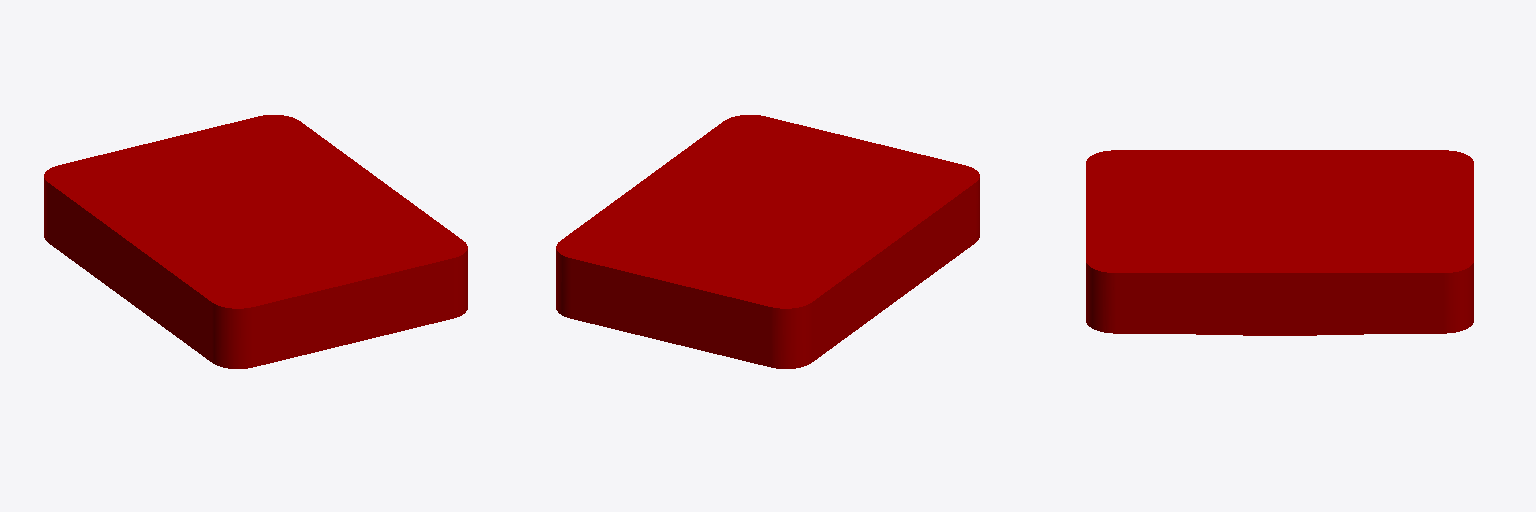
File: extruded_elastomer_transformed.obj
The picture shows the model from 3 angles: view 1: azimuth 30°, elevation 25°; view 2: azimuth 150°, elevation 25°; view 3: azimuth 270°, elevation 25°; orthographic projection.
Bounding box in the file's own units: 0.024 × 0.0081 × 0.032.